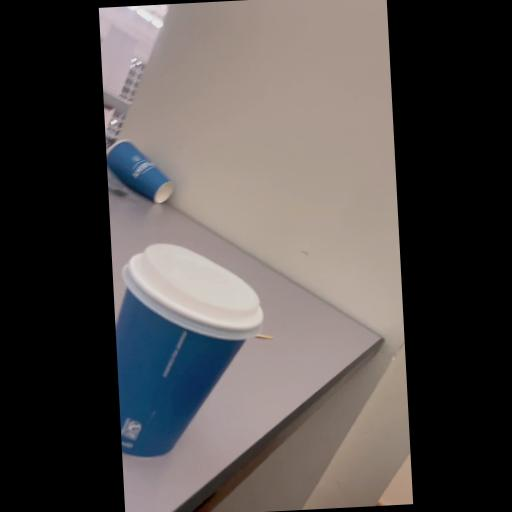lp_paper_cup: (112, 240, 270, 460), (106, 138, 174, 206)
